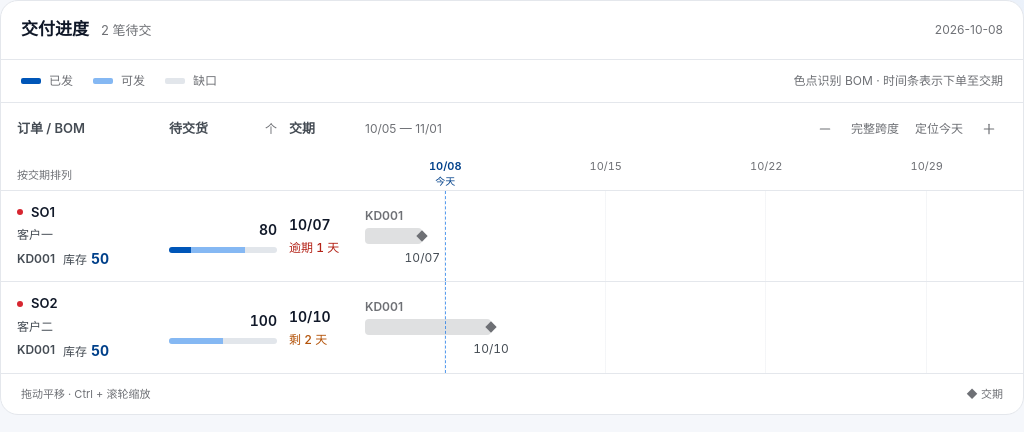
it: 缩放与键盘平移只改变时间线，数量和可见订单不变，定位今天回到四周窗口
Click the button named "放大时间线".
click(989, 128)  # box [971,110,1007,146]
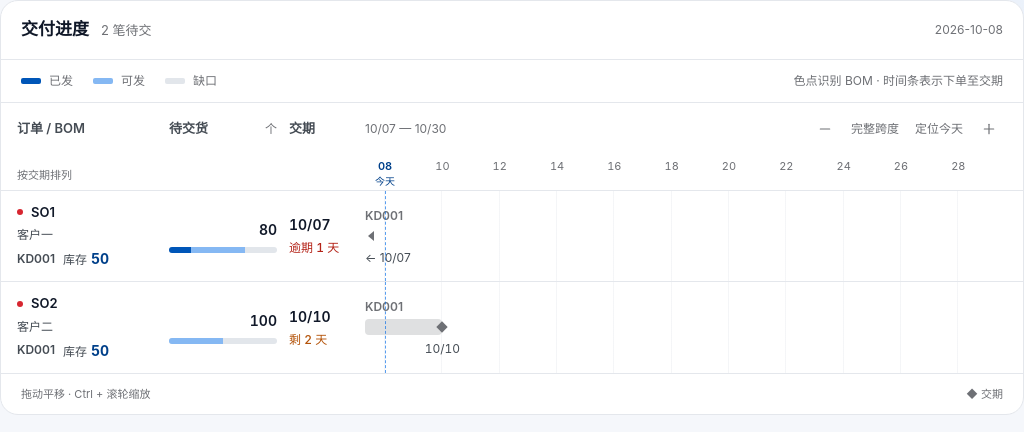
Expected: the text "10/05 — 11/01" is gone
Press ArrowRight in the element named "拖动平移", box [1,190,1023,372]
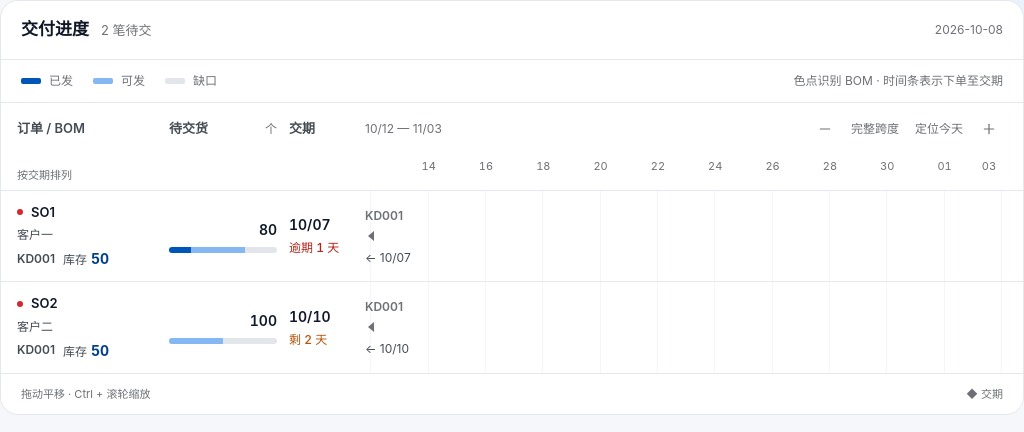
Expected: the text "SO1" is shown, [31,202,55,222]
Expected: the text "SO2" is shown, [31,294,58,314]
Click the button "定位今天".
click(939, 128)  # box [907,110,971,146]
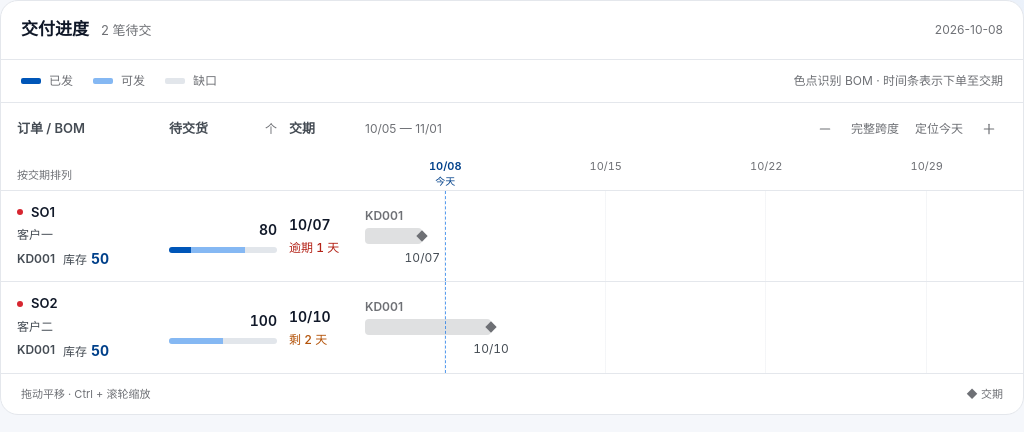
Expected: the text "10/05 — 11/01" is shown, [365,120,442,138]
